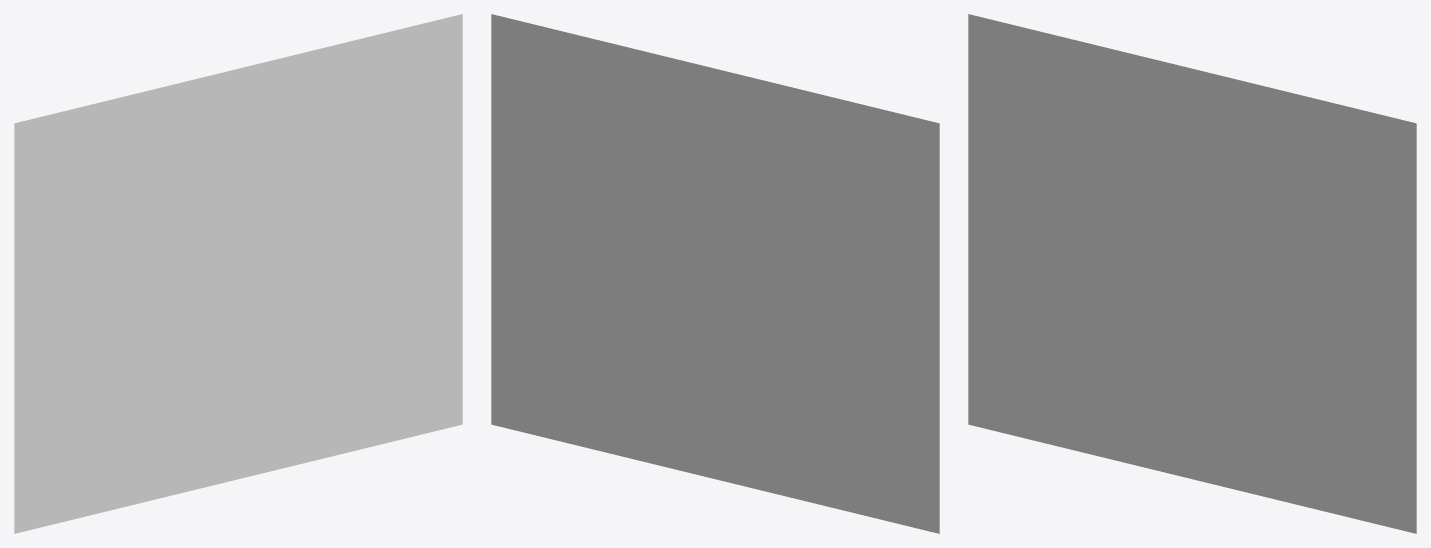
Rendered from chr128_wtf.obj.
3 views of the same model, side by side, from view 1: azimuth 30°, elevation 25°; view 2: azimuth 150°, elevation 25°; view 3: azimuth 330°, elevation 25° (orthographic).
Visible parts, largest first — view 1: group1; view 2: group1; view 3: group1.
Boxes of the visible parts, x1,y1,x2,y2 form: group1: (14,14,462,533); group1: (491,14,939,533); group1: (968,14,1416,533).
Size of the model in its own units: 660 by 578 by 1.1e-05.
